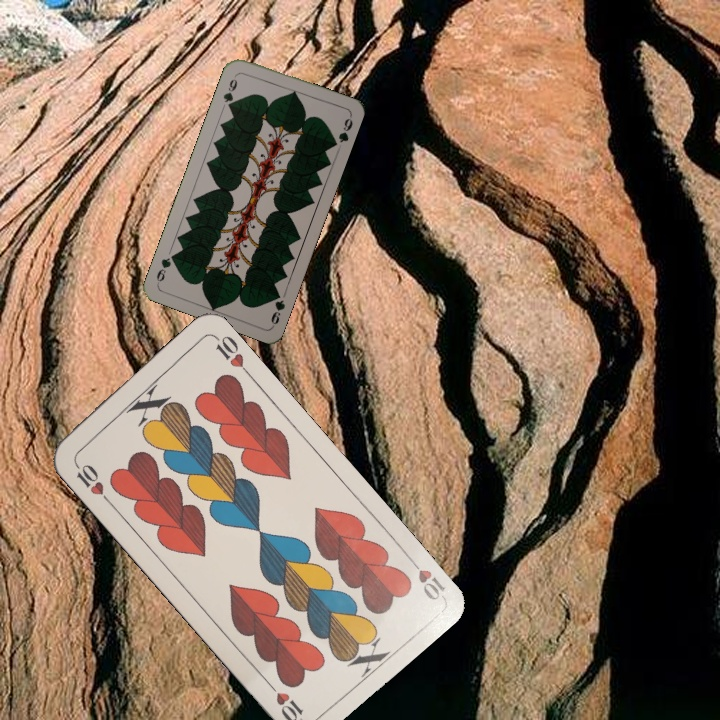G9: (267, 287, 288, 329), (219, 70, 240, 111)
H10: (402, 551, 448, 603), (69, 456, 113, 505)
